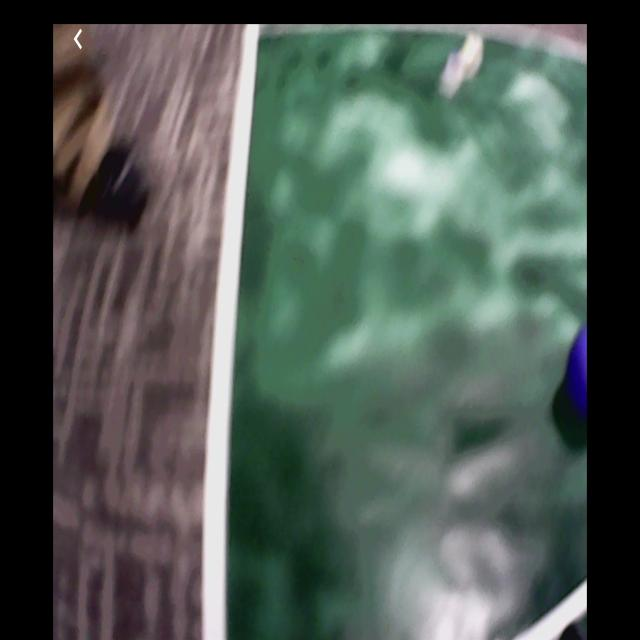ball: (571, 328, 588, 419)
